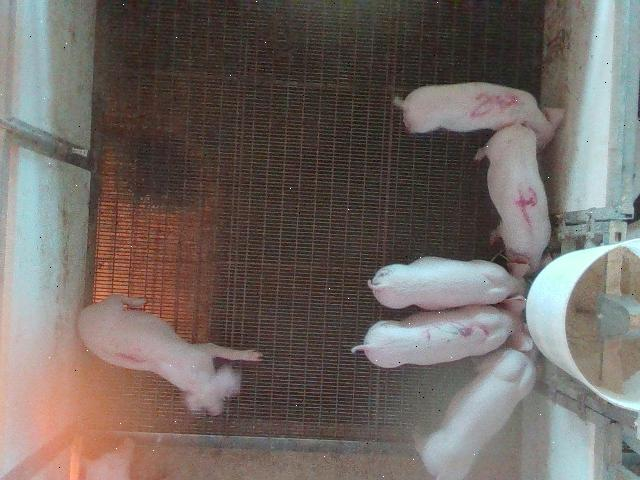pig-3: (79, 295, 262, 414), (351, 295, 532, 367)
pig-4: (478, 124, 551, 278)
pig-5: (395, 82, 562, 148)
